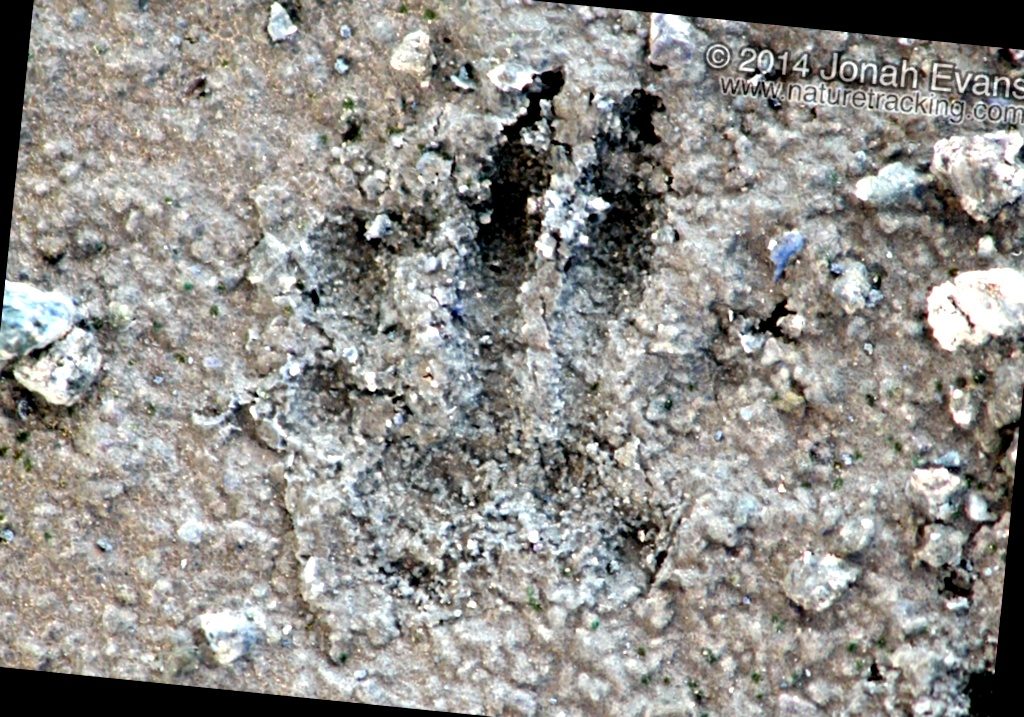ecureuil: (164, 0, 807, 717)
